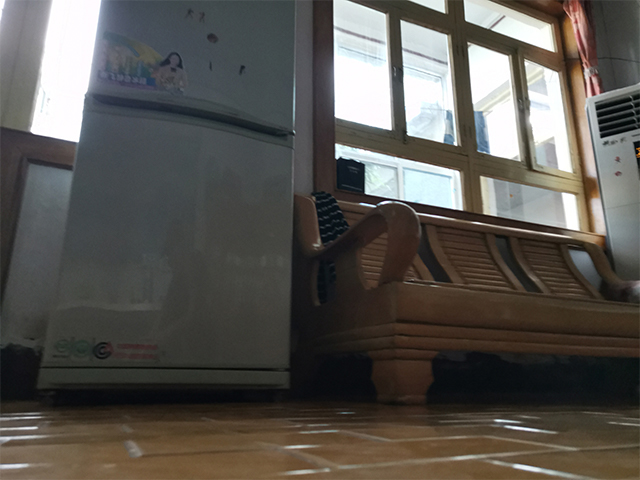stool: (291, 192, 640, 407)
